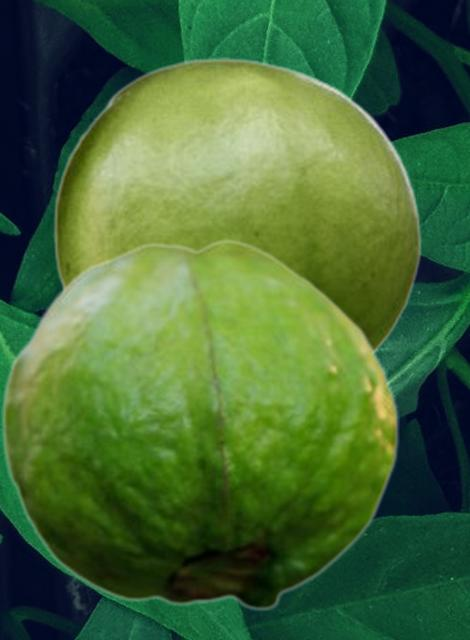guava: (1, 238, 398, 611), (52, 57, 421, 352)
